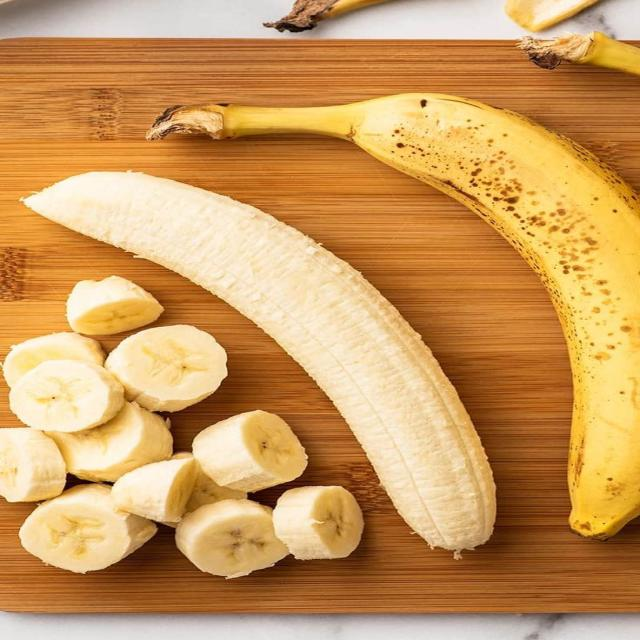banana: (25, 171, 495, 555)
banana slice: (20, 483, 157, 573), (105, 325, 227, 412), (49, 402, 172, 481), (192, 410, 307, 492), (177, 499, 288, 578), (10, 360, 124, 432), (273, 486, 363, 560), (66, 276, 163, 335), (3, 332, 105, 387), (112, 458, 194, 522), (0, 427, 65, 502), (183, 466, 247, 513), (171, 452, 192, 459)
unpeal banana: (150, 93, 639, 540)
